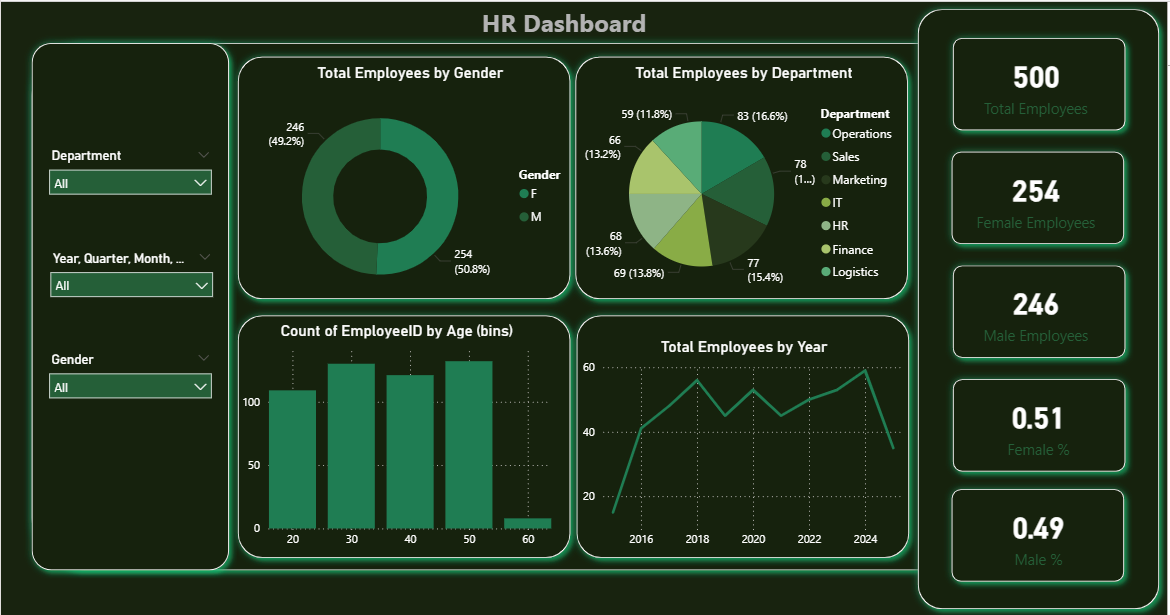

The page's visual inventory and layout, read from the dashboard file:
{"tool":"powerbi","page":{"name":"Page 1","canvas":[1280,720],"ordinal":0},"visuals":[{"type":"shape","box":[24.7,81,1193.8,596.9],"z":0},{"type":"shape","box":[997.6,43.9,282.7,676.5],"z":1000},{"type":"shape","box":[251.1,96.1,382.8,284],"z":2000},{"type":"shape","box":[24.7,81,234.6,596.9],"z":3000},{"type":"shape","box":[621.6,96.1,382.8,284],"z":4000},{"type":"shape","box":[623,380.1,382.8,284],"z":5000},{"type":"shape","box":[251.1,380.1,382.8,284],"z":6000},{"type":"shape","box":[1035.2,570.3,207.2,119.4],"z":7000},{"type":"shape","box":[1035.7,74.9,207.2,119.4],"z":8000},{"type":"shape","box":[1035.2,199.8,207.2,119.4],"z":9000},{"type":"shape","box":[1035.7,325.4,207.2,119.4],"z":10000},{"type":"shape","box":[1035.7,450.6,207.2,119.4],"z":11000},{"type":"card","fields":{"Values":["Sheet1.Female %"]},"box":[1042.9,458.9,192.1,104.3],"z":12000},{"type":"card","fields":{"Values":["Sheet1.Male Employees"]},"box":[1040.1,334,192.1,104.3],"z":13000},{"type":"card","fields":{"Values":["Sheet1.Female Employees"]},"box":[1040.1,209.1,192.1,104.3],"z":14000},{"type":"card","fields":{"Values":["Sheet1.Total Employees"]},"box":[1040.1,84.3,192.1,104.3],"z":15000},{"type":"card","fields":{"Values":["Sheet1.Male %"]},"box":[1042.9,579.6,192.1,104.3],"z":16000},{"type":"donutChart","fields":{"Category":["Sheet1.Gender"],"Y":["Sheet1.Total Employees"]},"box":[259.3,112.5,380.1,273.1],"z":17000},{"type":"pieChart","fields":{"Category":["Sheet1.Department"],"Y":["Sheet1.Total Employees"]},"box":[634,112.5,363.6,267.6],"z":18000},{"type":"clusteredColumnChart","fields":{"Y":["CountNonNull(Sheet1.EmployeeID)"],"Category":["Sheet1.Age (bins)"]},"box":[259.3,395.2,349.9,258],"z":19000},{"type":"lineChart","fields":{"Y":["Sheet1.Total Employees"],"Category":["Sheet1.HireDate.Variation.Date Hierarchy.Year","Sheet1.HireDate.Variation.Date Hierarchy.Quarter","Sheet1.HireDate.Variation.Date Hierarchy.Month","Sheet1.HireDate.Variation.Date Hierarchy.Day"]},"box":[634,413,363.6,240.1],"z":20000},{"type":"slicer","fields":{"Values":["Sheet1.Department"]},"box":[42.5,200.3,199,68.6],"z":21000},{"type":"slicer","fields":{"Values":["Sheet1.HireDate.Variation.Date Hierarchy.Year","Sheet1.HireDate.Variation.Date Hierarchy.Quarter","Sheet1.HireDate.Variation.Date Hierarchy.Month","Sheet1.HireDate.Variation.Date Hierarchy.Day"]},"box":[43.9,312.2,199,68.6],"z":22000},{"type":"slicer","fields":{"Values":["Sheet1.Gender"]},"box":[42.5,424,199,68.6],"z":23000},{"type":"textbox","box":[522.8,43.9,378.7,52.1],"z":23001}]}

Visuals, with their boxes in screenshot pixels (x1, y1, x2, y2):
shape: (x1=25, y1=31, x2=1107, y2=572)
shape: (x1=907, y1=0, x2=1163, y2=610)
shape: (x1=231, y1=44, x2=577, y2=302)
shape: (x1=25, y1=31, x2=238, y2=572)
shape: (x1=566, y1=44, x2=913, y2=302)
shape: (x1=568, y1=302, x2=914, y2=559)
shape: (x1=231, y1=302, x2=577, y2=559)
shape: (x1=941, y1=474, x2=1129, y2=582)
shape: (x1=942, y1=25, x2=1129, y2=133)
shape: (x1=941, y1=138, x2=1129, y2=247)
shape: (x1=942, y1=252, x2=1129, y2=360)
shape: (x1=942, y1=366, x2=1129, y2=474)
card - Sheet1.Female %: (x1=948, y1=373, x2=1122, y2=468)
card - Sheet1.Male Employees: (x1=945, y1=260, x2=1120, y2=354)
card - Sheet1.Female Employees: (x1=945, y1=147, x2=1120, y2=241)
card - Sheet1.Total Employees: (x1=945, y1=34, x2=1120, y2=128)
card - Sheet1.Male %: (x1=948, y1=483, x2=1122, y2=577)
donutChart - Sheet1.Gender x Sheet1.Total Employees: (x1=238, y1=59, x2=582, y2=307)
pieChart - Sheet1.Department x Sheet1.Total Employees: (x1=578, y1=59, x2=907, y2=302)
clusteredColumnChart - CountNonNull(Sheet1.EmployeeID) x Sheet1.Age (bins): (x1=238, y1=315, x2=555, y2=549)
lineChart - Sheet1.Total Employees x Sheet1.HireDate.Variation.Date Hierarchy.Year: (x1=578, y1=332, x2=907, y2=549)
slicer - Sheet1.Department: (x1=42, y1=139, x2=222, y2=201)
slicer - Sheet1.HireDate.Variation.Date Hierarchy.Year x Sheet1.HireDate.Variation.Date Hierarchy.Quarter: (x1=43, y1=240, x2=223, y2=302)
slicer - Sheet1.Gender: (x1=42, y1=342, x2=222, y2=404)
textbox: (x1=477, y1=0, x2=820, y2=44)
